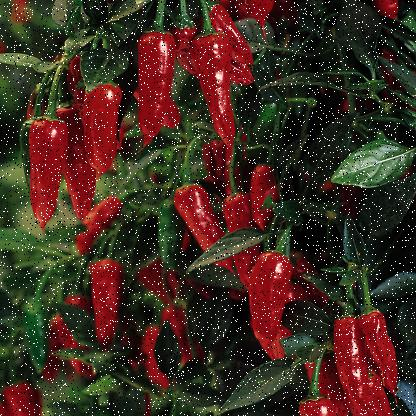chili: (132, 28, 182, 157), (192, 35, 244, 159), (172, 178, 238, 272), (76, 76, 126, 182), (252, 240, 295, 358), (24, 115, 68, 230), (354, 306, 404, 400), (88, 256, 127, 354), (336, 314, 372, 403)
